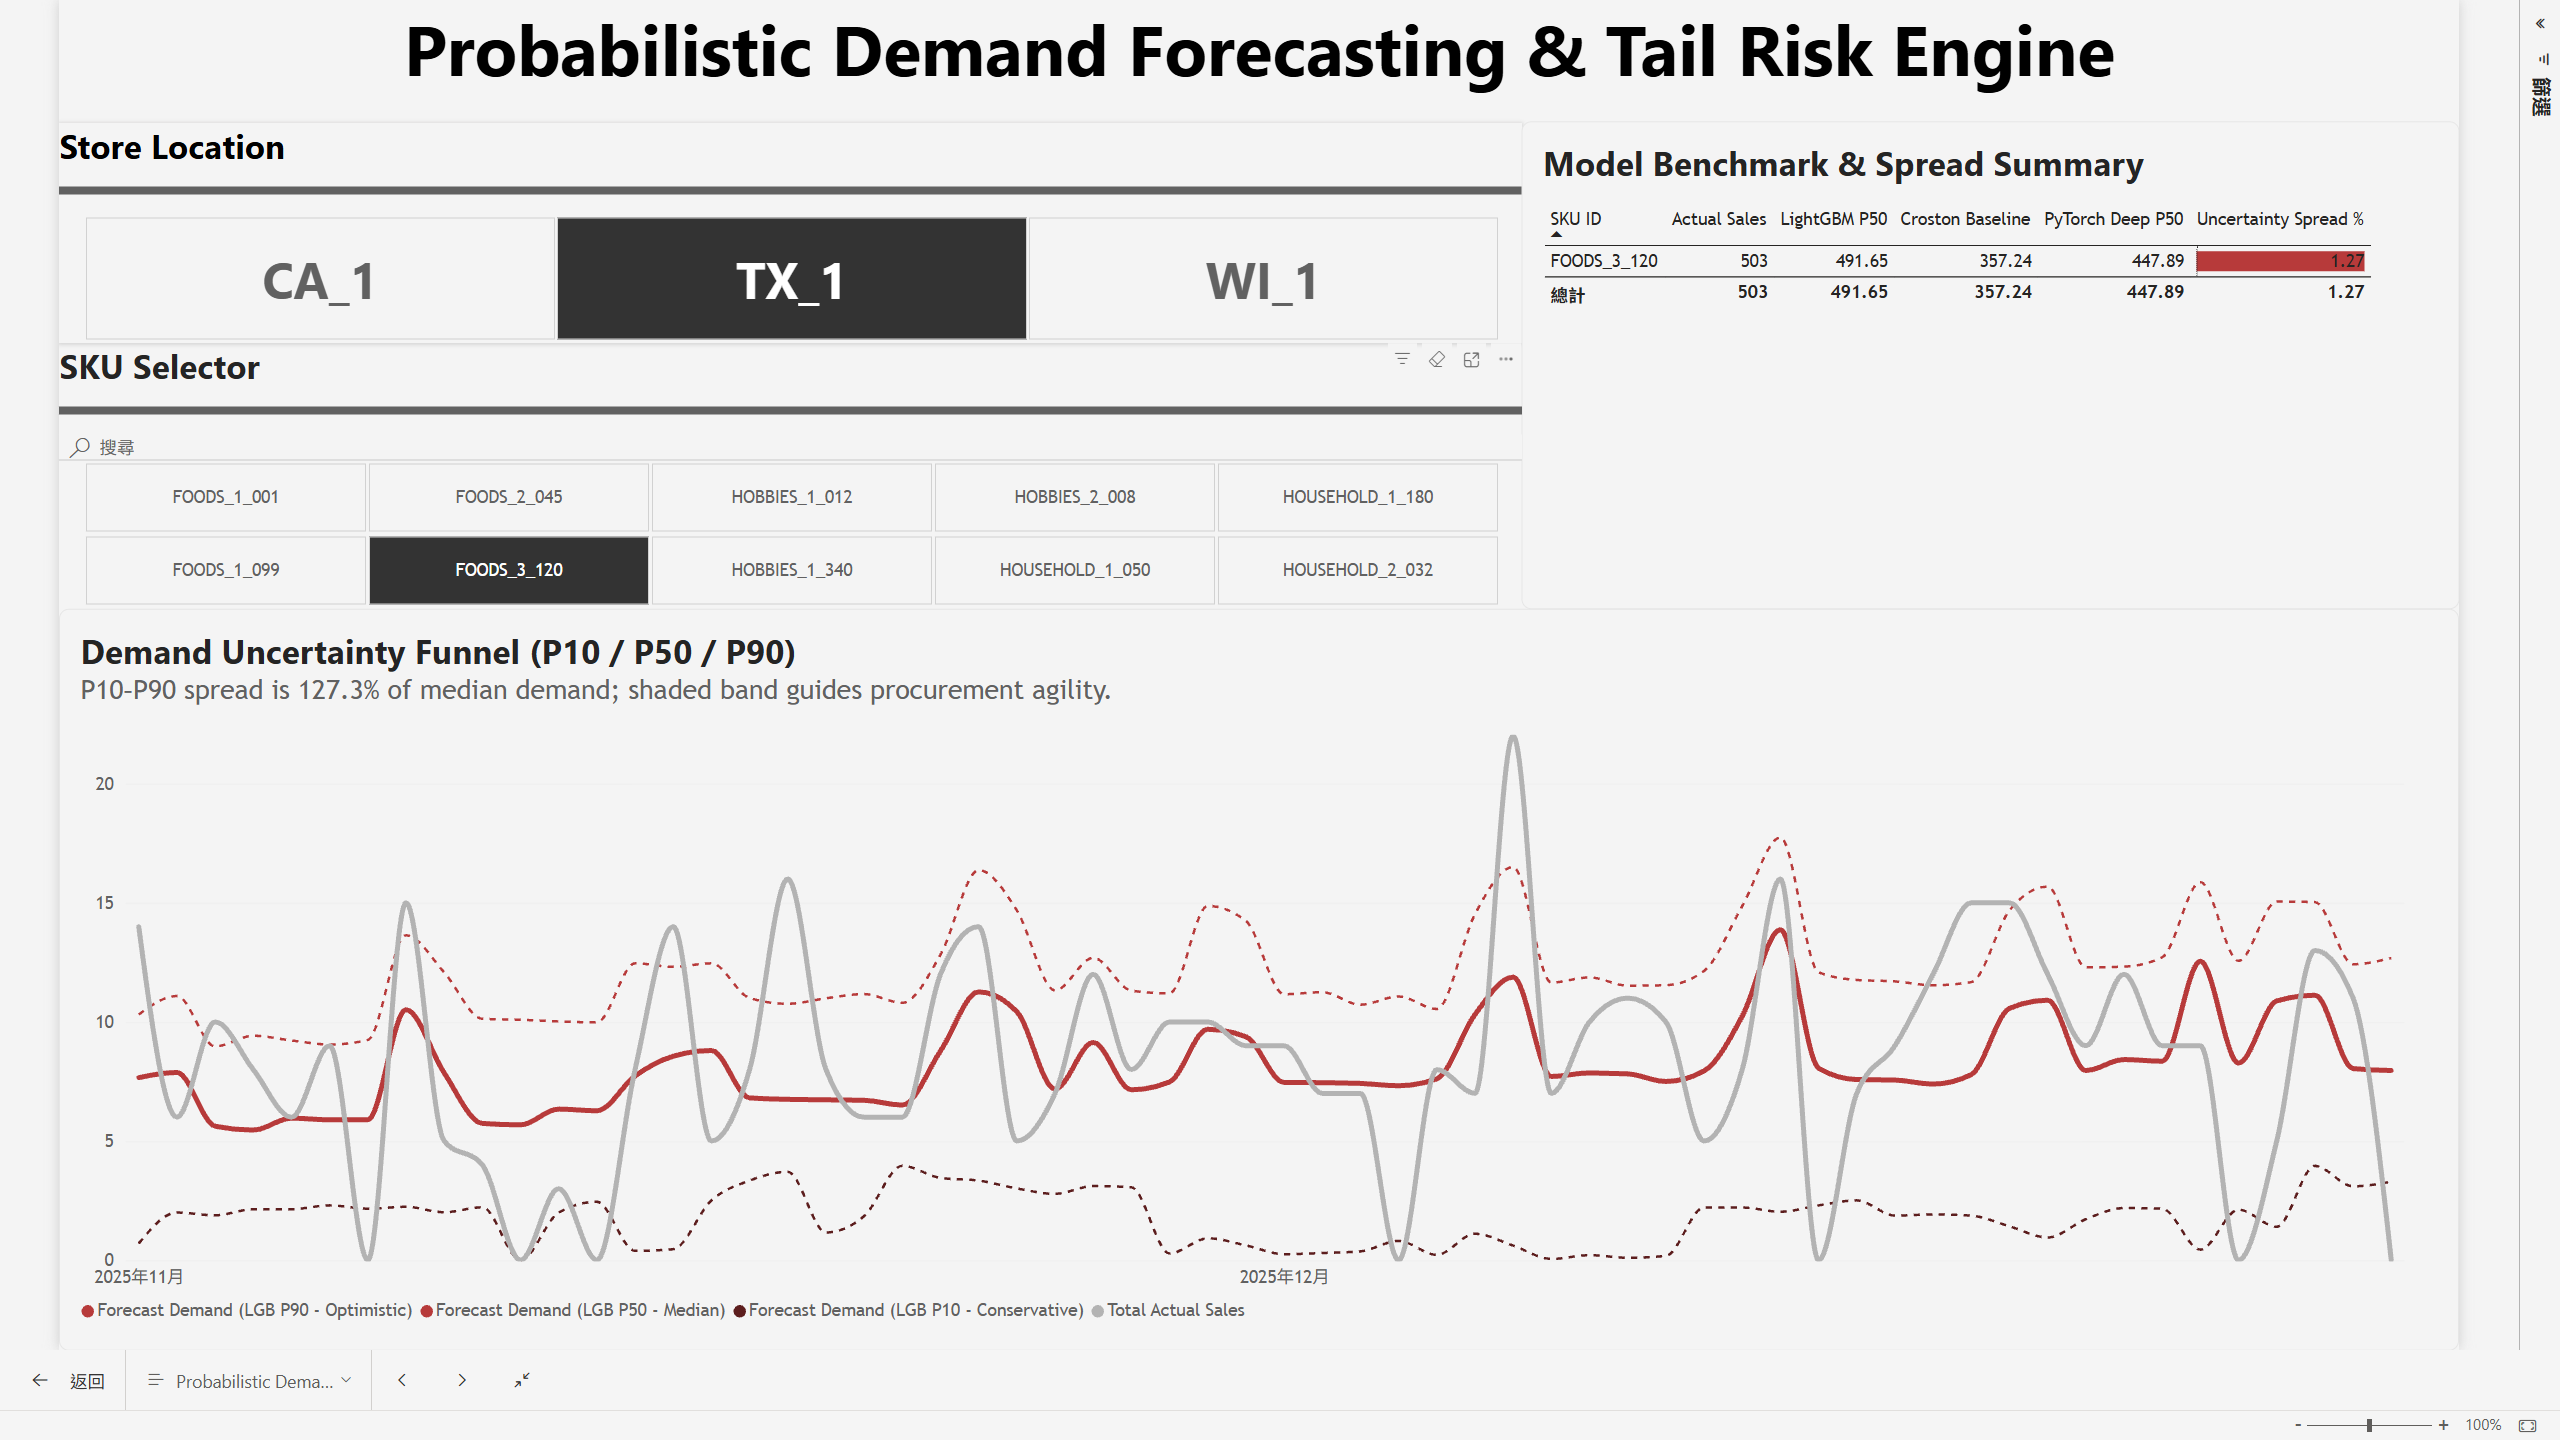

Layout of this report page (visuals, bound fields, positions):
{"tool":"powerbi","page":{"name":"Probabilistic Demand Forecasting & Tail Risk Engine","canvas":[1920,1080],"ordinal":1},"visuals":[{"type":"slicer","title":"Store Location","fields":{"Values":["Dim_Store.Store_ID"]},"box":[0,98,1170,176],"z":0},{"type":"lineChart","title":"Demand Uncertainty Funnel (P10 / P50 / P90)","fields":{"Category":["Dim_Date.Date"],"Y":["_Measures.Forecast Demand (LGB P90 - Optimistic)","_Measures.Forecast Demand (LGB P50 - Median)","_Measures.Forecast Demand (LGB P10 - Conservative)","_Measures.Total Actual Sales"]},"box":[0,486.7,1920,593.3],"z":1000},{"type":"tableEx","title":"Model Benchmark & Spread Summary","fields":{"Values":["Dim_Product.Item_ID","_Measures.Total Actual Sales","_Measures.Forecast Demand (LGB P50 - Median)","_Measures.Forecast Demand (Croston Baseline)","_Measures.Forecast Demand (Deep Probabilistic)","_Measures.Uncertainty Spread %"]},"box":[1170,96.7,750,390],"z":2000},{"type":"textbox","box":[0,0,1920,96],"z":3000},{"type":"slicer","title":"SKU Selector","fields":{"Values":["Dim_Product.Item_ID"]},"box":[0,274,1170,212],"z":4000}]}

Visuals, with their boxes on the page's 1920x1080 design canvas (x1, y1, x2, y2). These are canvas units, not pixel positions in the 2560x1440 screenshot, which may show the page scaled, cropped or inside an application window:
"Store Location" slicer: [0,98,1170,274]
"Demand Uncertainty Funnel (P10 / P50 / P90)" lineChart: [0,487,1920,1080]
"Model Benchmark & Spread Summary" tableEx: [1170,97,1920,487]
textbox: [0,0,1920,96]
"SKU Selector" slicer: [0,274,1170,486]
